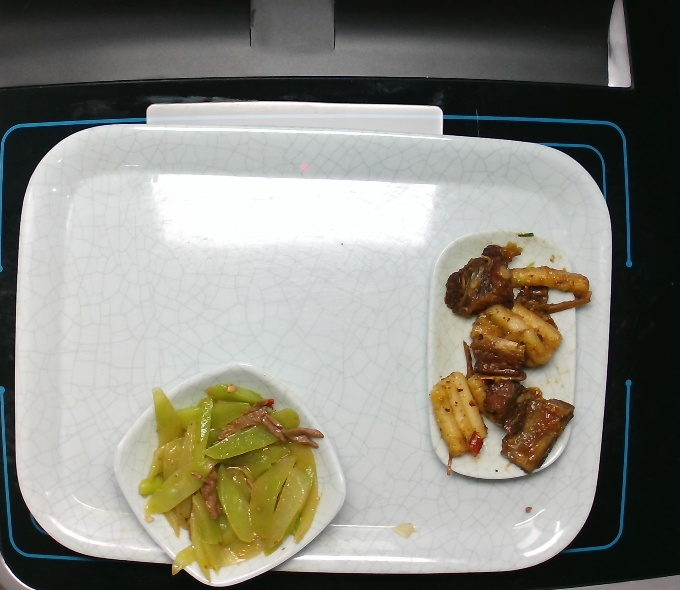wcq-NianGaoZaiPai: (423, 242, 593, 478)
wcq-WoSun: (137, 378, 327, 585)
